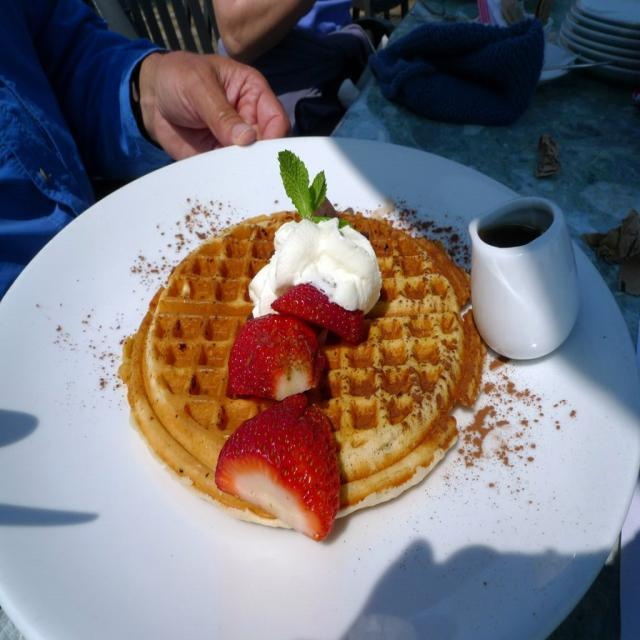Waffle: (116, 210, 486, 528)
